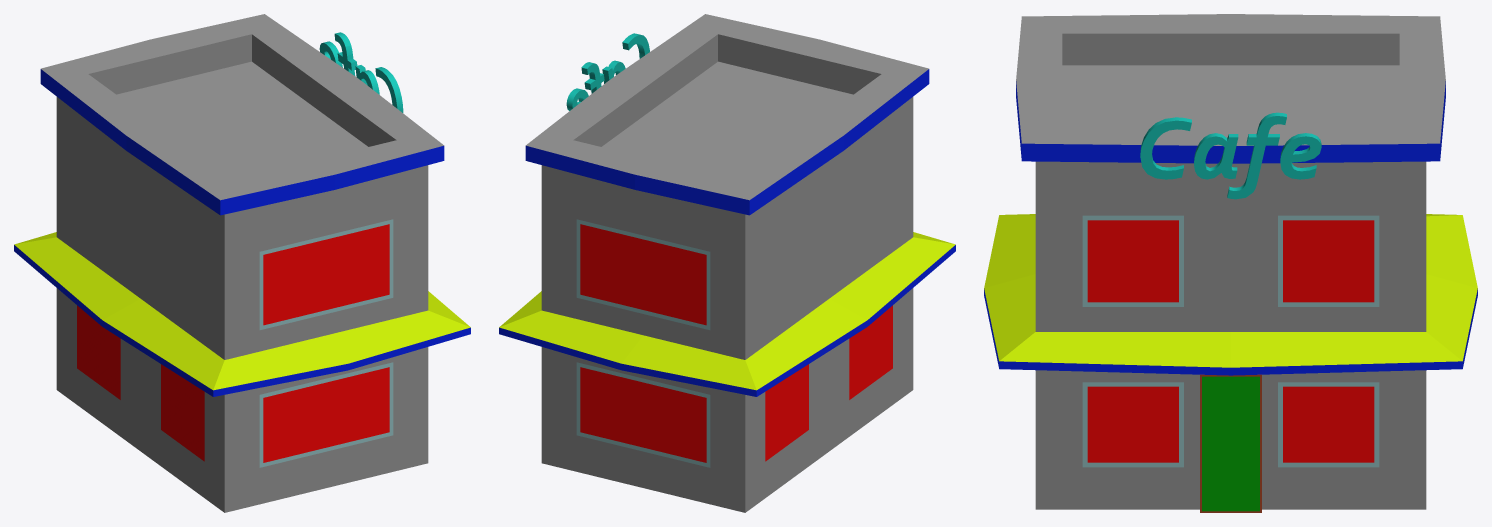
File: Cafe_00.fbx
3 views of the same model, side by side, from view 1: azimuth 30°, elevation 25°; view 2: azimuth 150°, elevation 25°; view 3: azimuth 270°, elevation 25° (orthographic). The views are drawn at different scales.
Visible parts, largest first — view 1: Box001, Text001; view 2: Box001, Text001; view 3: Box001, Box002, Text001.
Boxes of the visible parts, x1=… form: Box001: x1=14, y1=14, x2=470, y2=512; Text001: x1=319, y1=32, x2=403, y2=112; Box001: x1=499, y1=14, x2=955, y2=512; Text001: x1=566, y1=33, x2=649, y2=110; Box001: x1=984, y1=14, x2=1477, y2=509; Box002: x1=1200, y1=374, x2=1261, y2=512; Text001: x1=1140, y1=112, x2=1321, y2=199.
Size of the model in its own units: 190 by 249 by 225.
